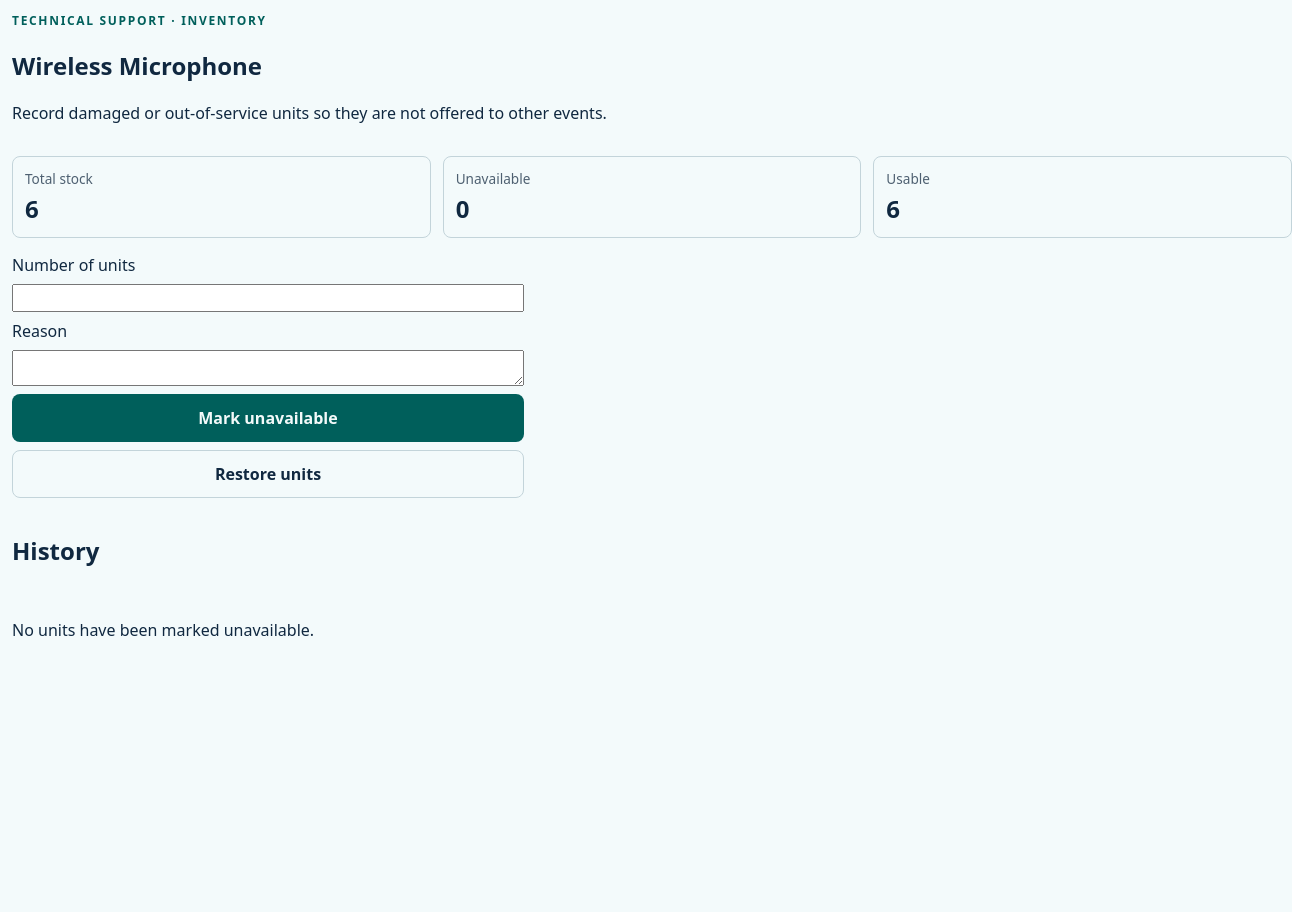
it: [TC-SPL-96-08] records a quantity and reason, then shows the usable stock the server returns
Expected: the heading "Wireless Microphone" is shown, [12, 49, 262, 82]
Expected: the text with test id "usable-stock" reads "6", [886, 192, 900, 225]
Step 1. Type "2" into the number field labelled "Number of units" → {"x": 268, "y": 298}, box [12, 284, 524, 312]
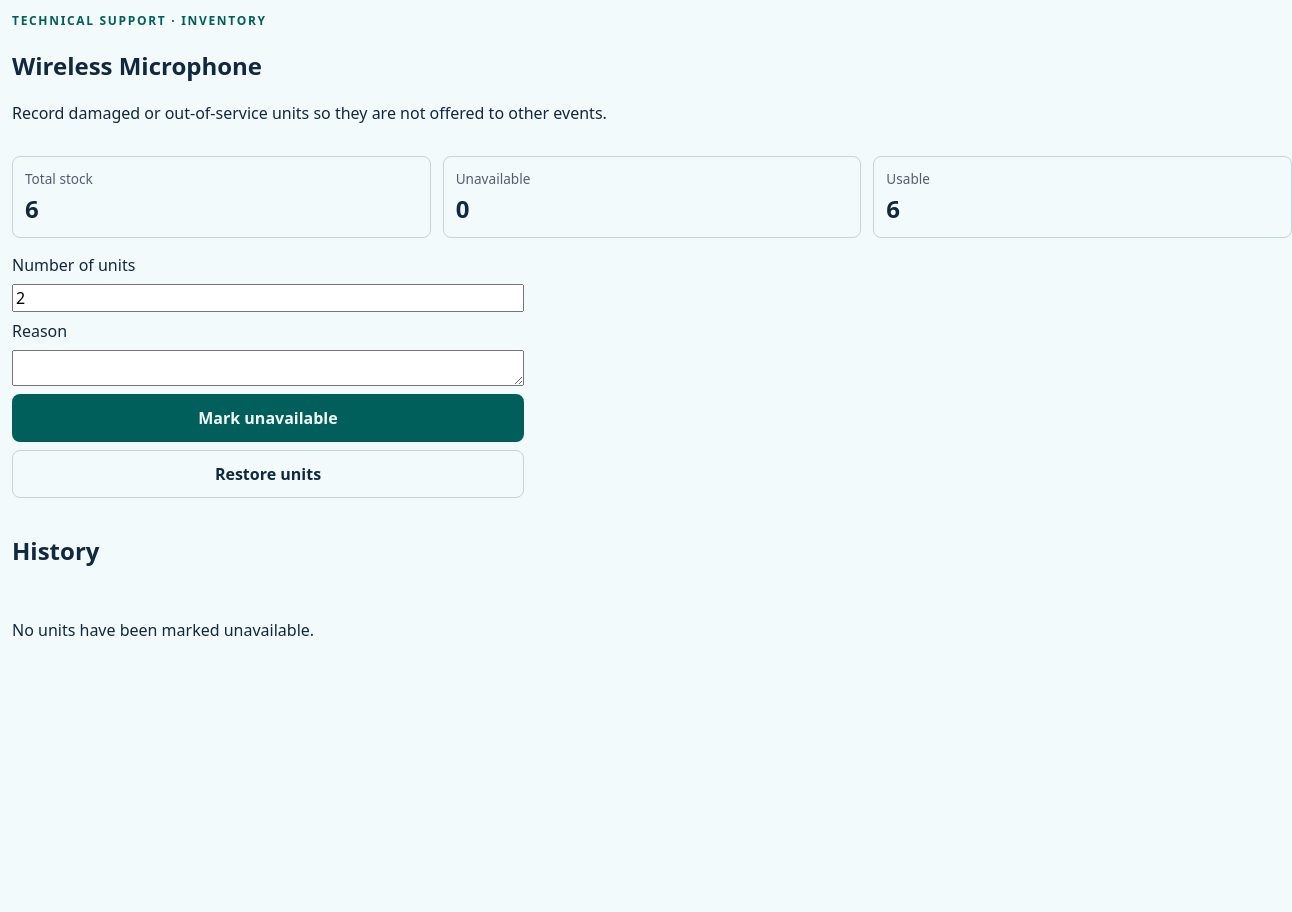
Step 2. Type "Two capsules cracked." into the text box labelled "Reason" → {"x": 268, "y": 368}, box [12, 350, 524, 386]
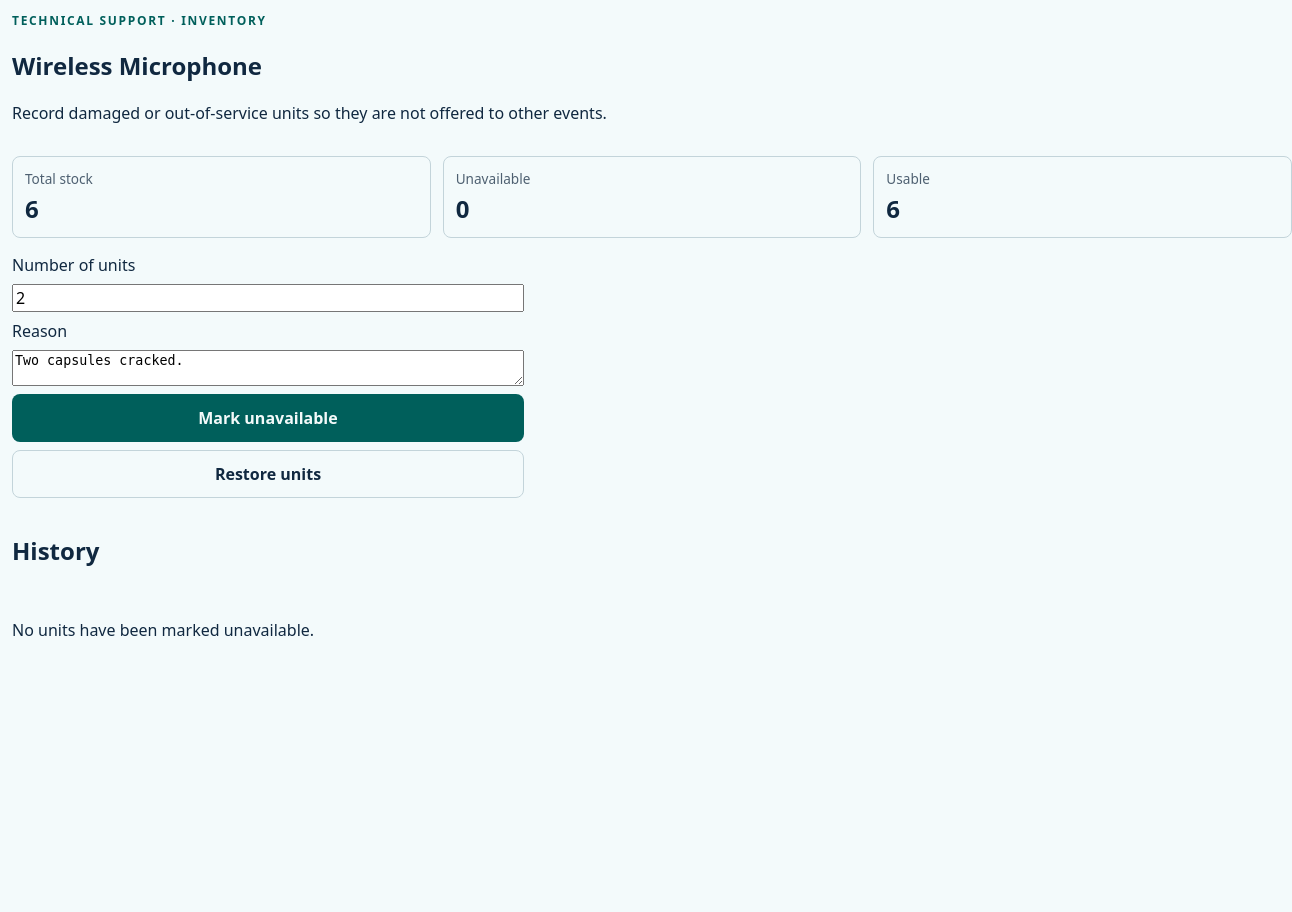
Step 3. Click the button "Mark unavailable" → {"x": 268, "y": 418}, box [12, 394, 524, 442]
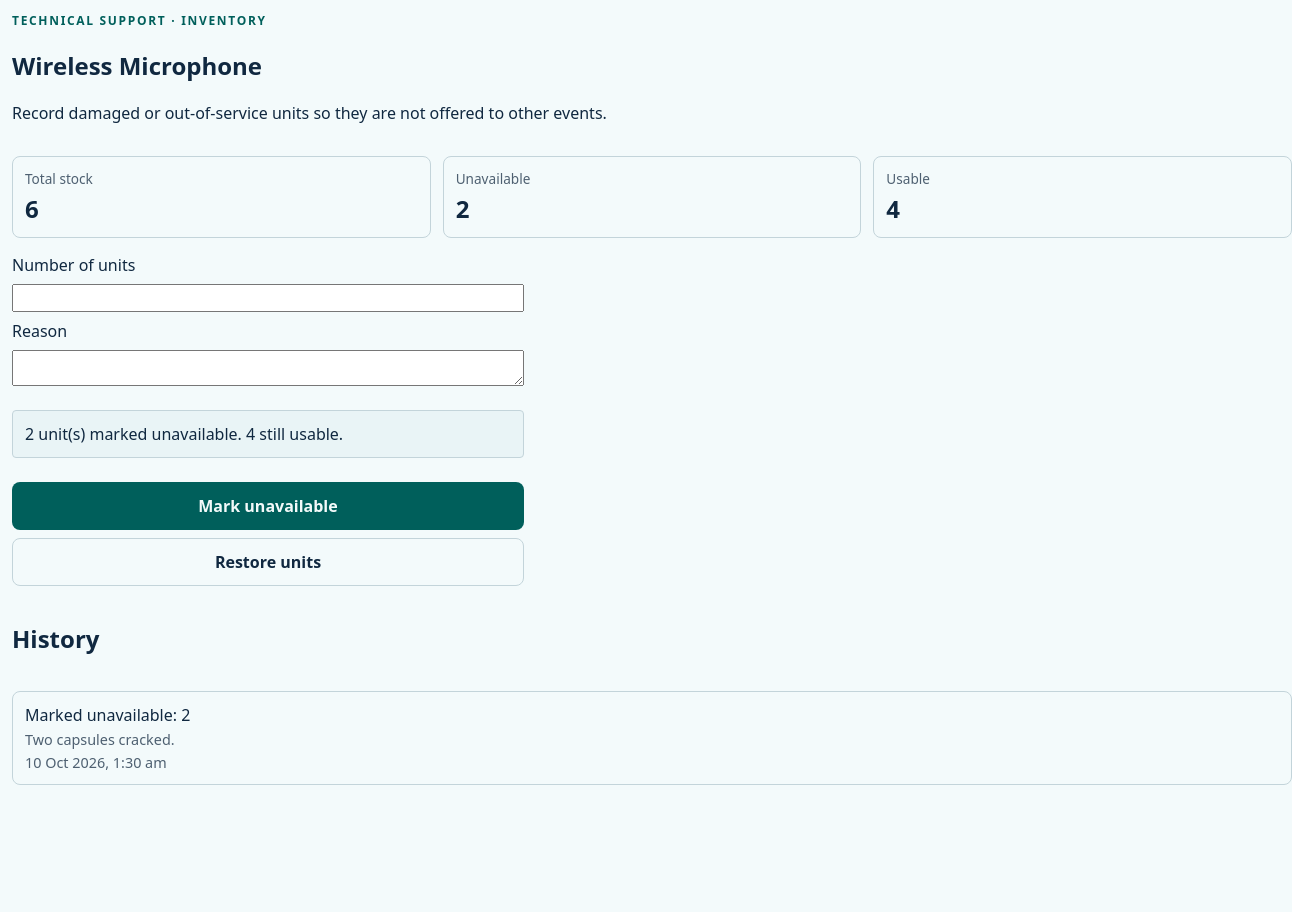
Now the text with test id "usable-stock" reads "4", box [886, 192, 900, 225]
Now the message shows "4 still usable", box [25, 423, 343, 445]
Now the text "Two capsules cracked." is shown, box [25, 730, 175, 749]
